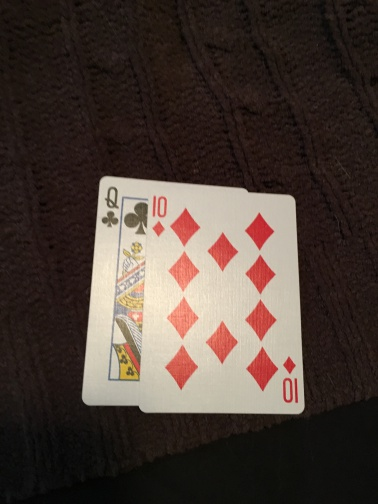queen: (81, 174, 149, 406)
ten: (143, 190, 305, 415)
